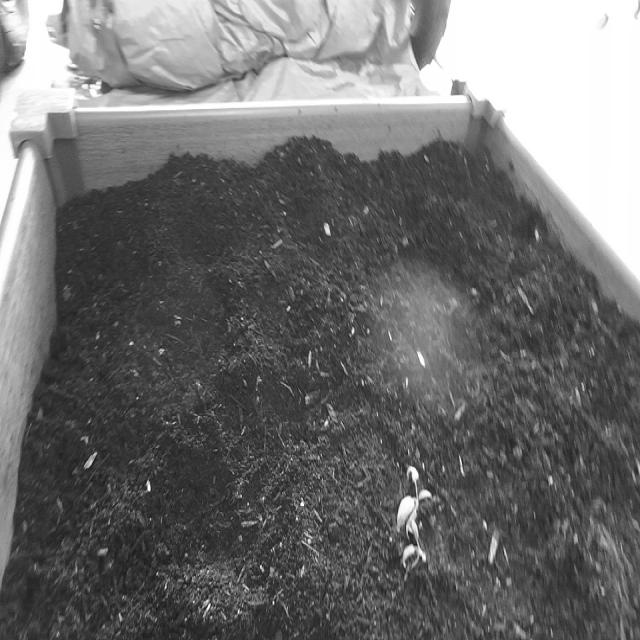Healthy: (394, 460, 434, 582)
